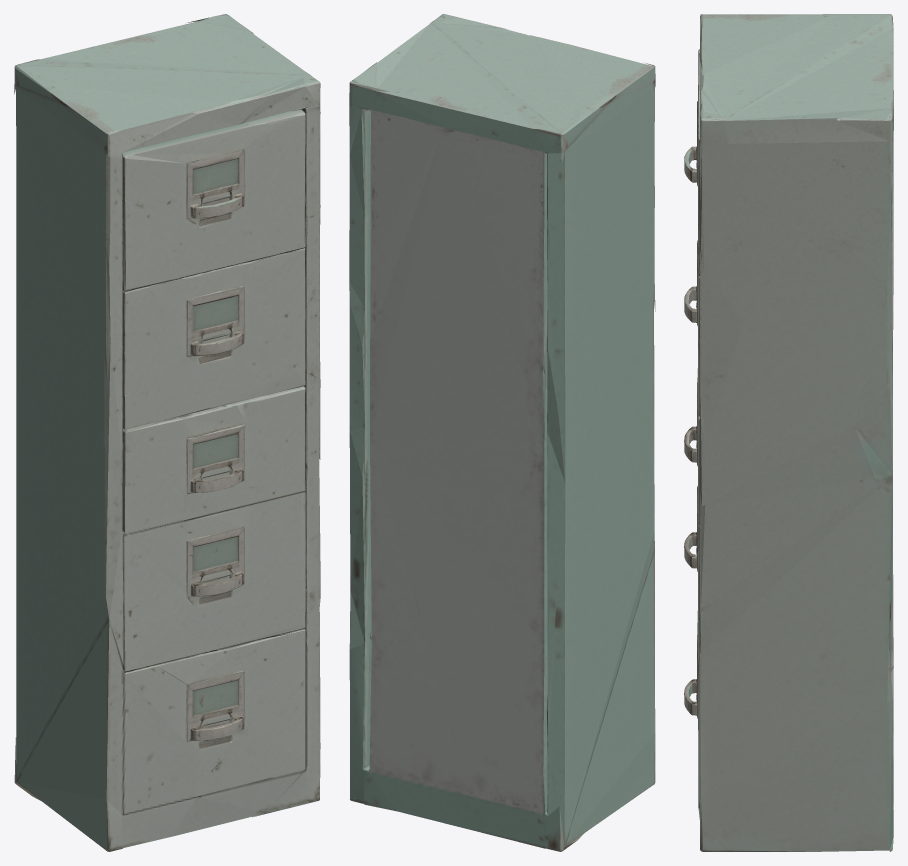
File: schedario_vero_B.glb
3 views of the same model, side by side, from view 1: azimuth 30°, elevation 25°; view 2: azimuth 150°, elevation 25°; view 3: azimuth 270°, elevation 25° (orthographic).
Bounding box in the file's own units: 0.5919 × 1.9 × 0.493.
Materials: 1 (1 with a texture image).
